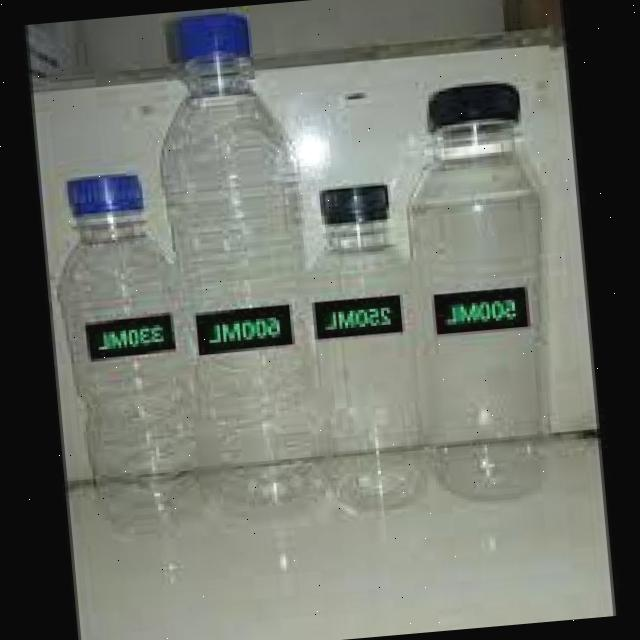bottle: (39, 156, 209, 556)
